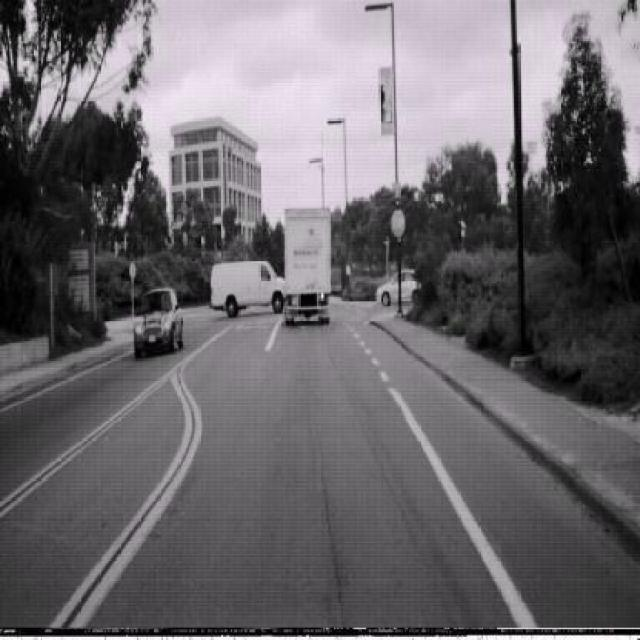stop: (391, 209, 406, 238)
